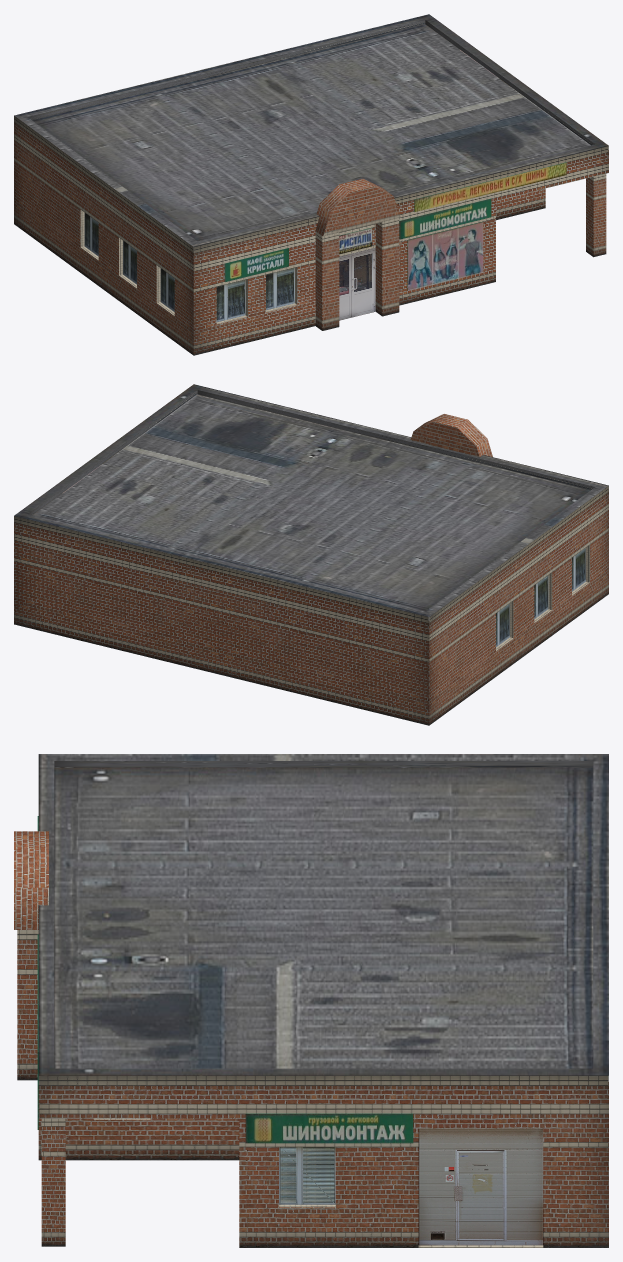
The model's file is r402_abatskoe_kristall.FBX.
The picture shows the model from 3 angles, top to bottom: view 1: azimuth 30°, elevation 25°; view 2: azimuth 150°, elevation 25°; view 3: azimuth 270°, elevation 25°; orthographic projection. The views are drawn at different scales.
Parts seen in each view (by area): view 1: r402_abatskoe_kristall; view 2: r402_abatskoe_kristall; view 3: r402_abatskoe_kristall.
Boxes of the visible parts, left/top/right/bottom form: r402_abatskoe_kristall: left=14, top=14, right=608, bottom=355; r402_abatskoe_kristall: left=14, top=384, right=608, bottom=725; r402_abatskoe_kristall: left=14, top=754, right=608, bottom=1247.
Bounding box in the file's own units: 1602 × 1252 × 489.
